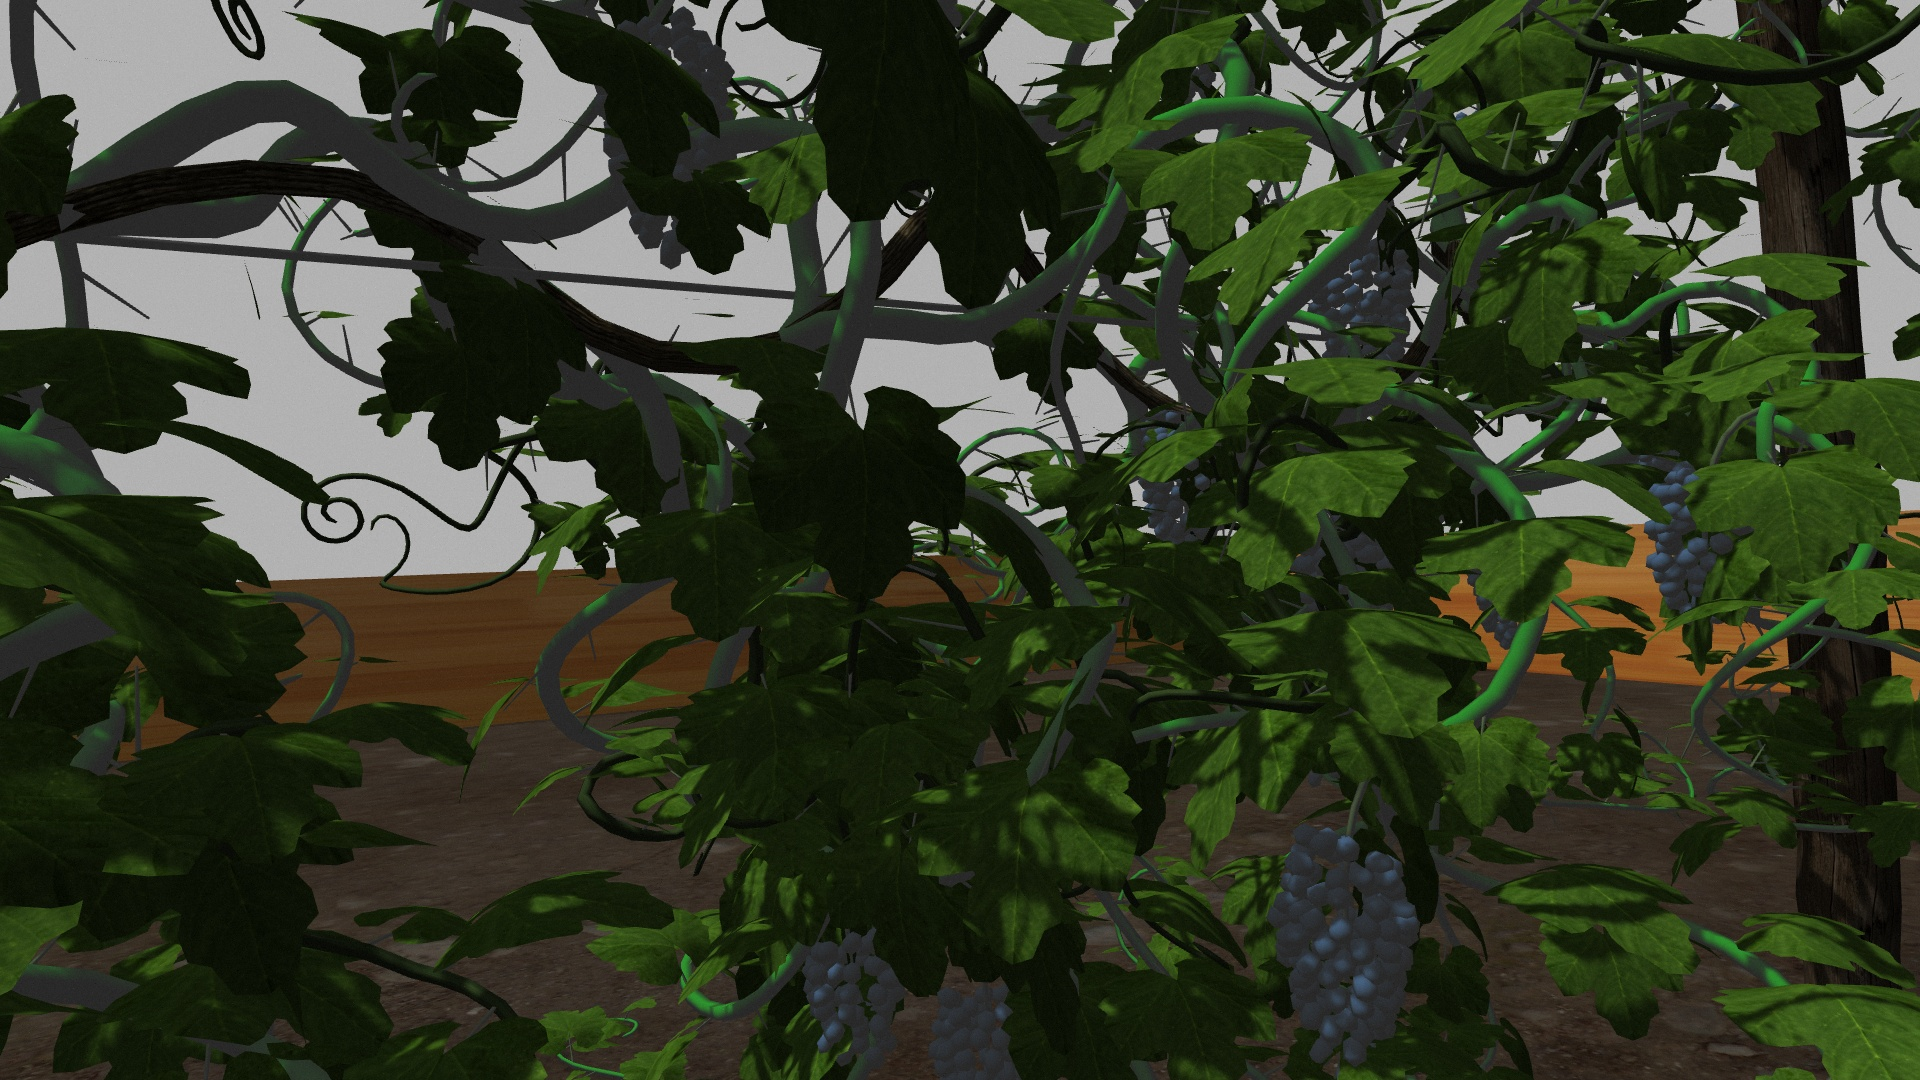grape: (1274, 824, 1419, 1064), (1643, 460, 1733, 621), (1311, 244, 1418, 364), (802, 920, 897, 1052), (915, 973, 1010, 1069)
